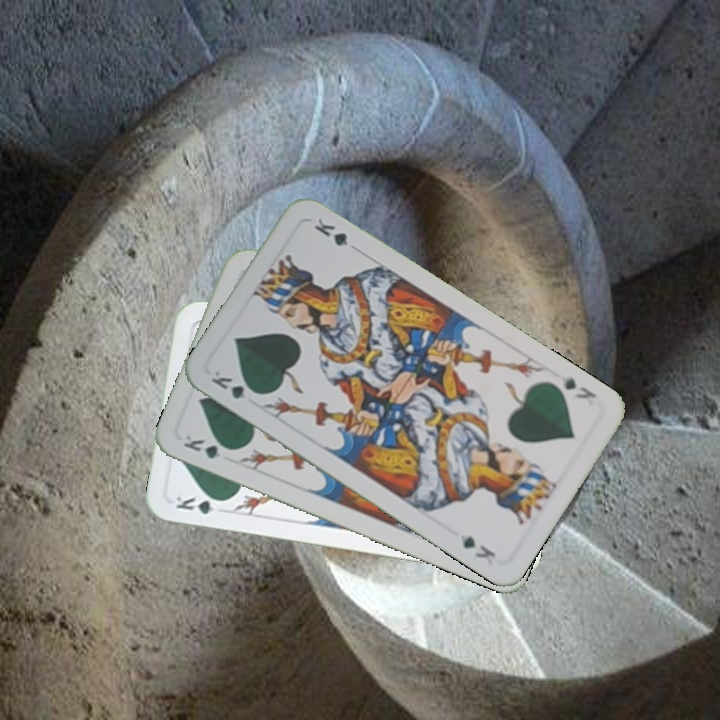GK: (206, 366, 263, 402), (179, 430, 237, 462), (172, 492, 229, 517), (558, 372, 600, 402)
